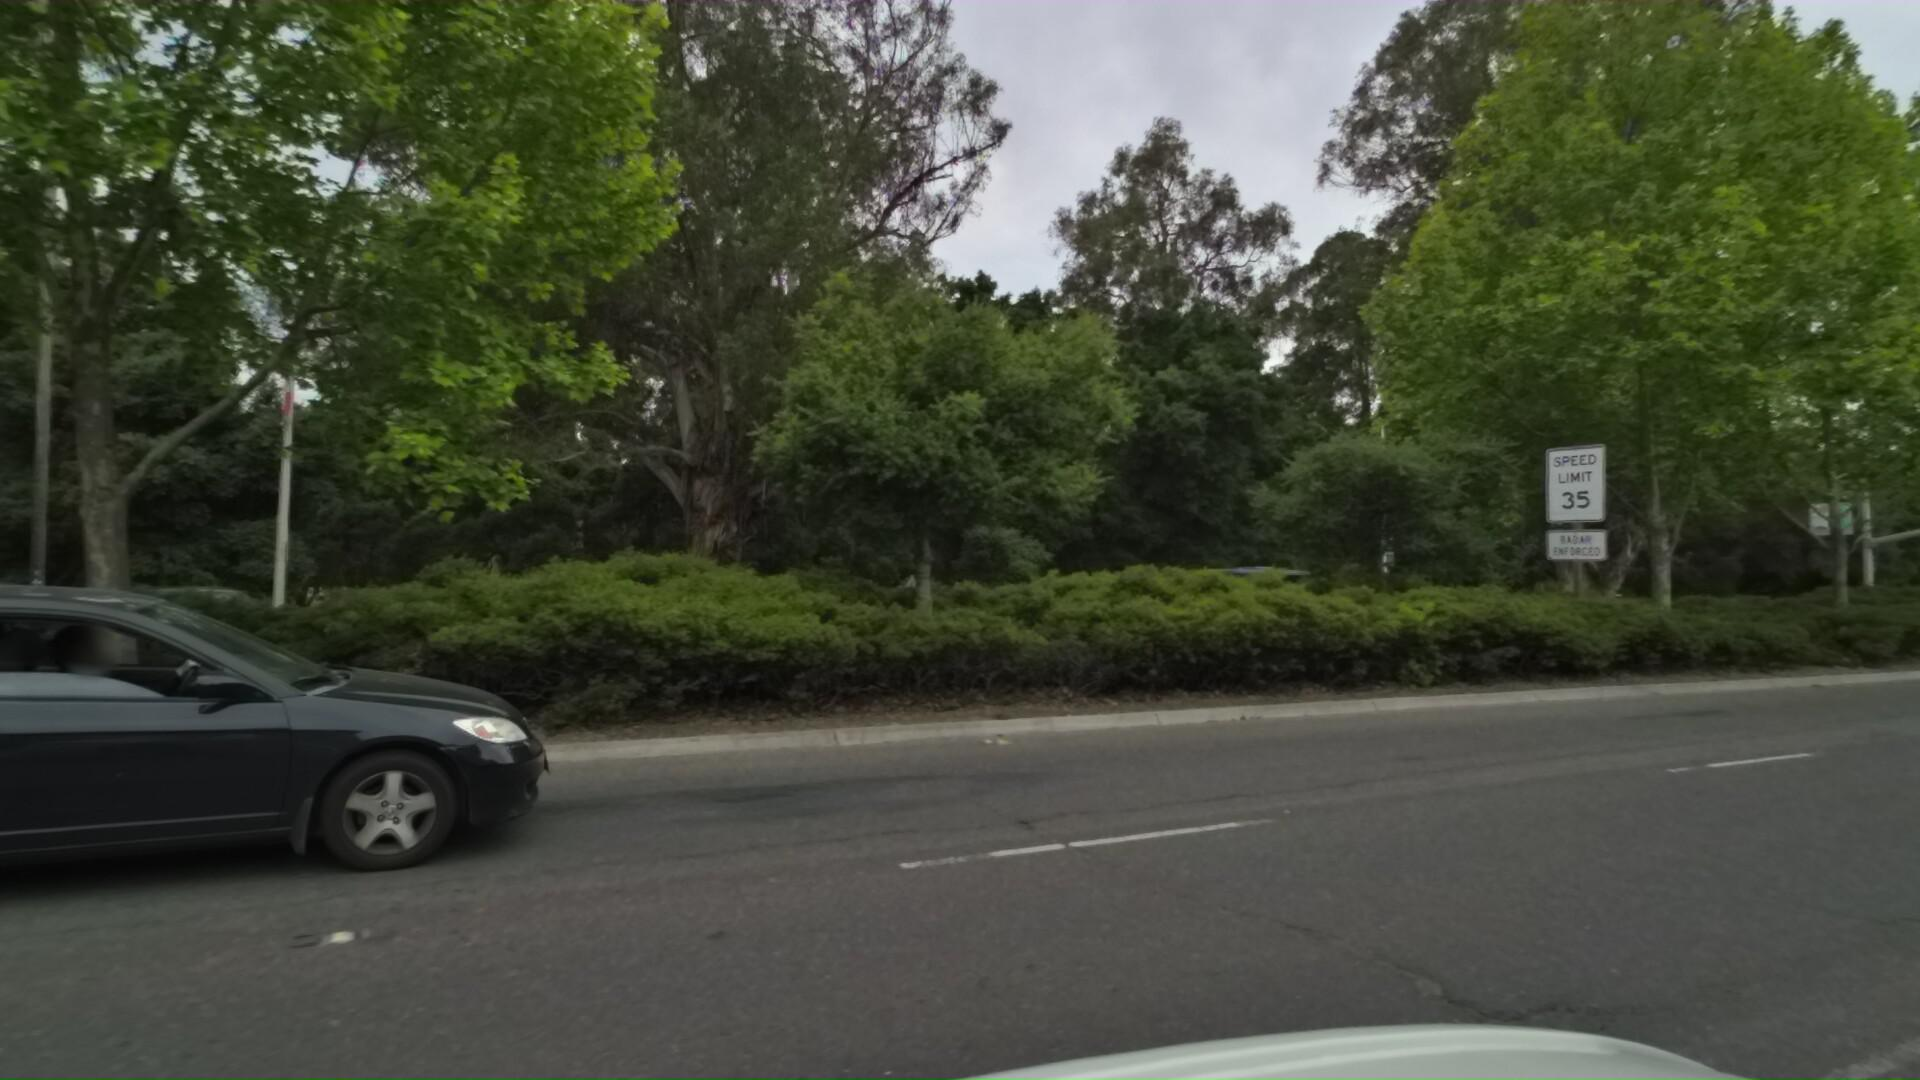car: (0, 567, 545, 1069), (0, 578, 253, 691)
